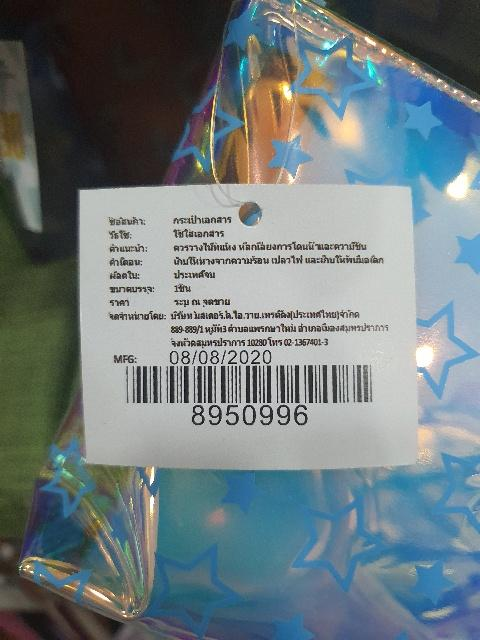Barcode: (118, 358, 381, 427)
